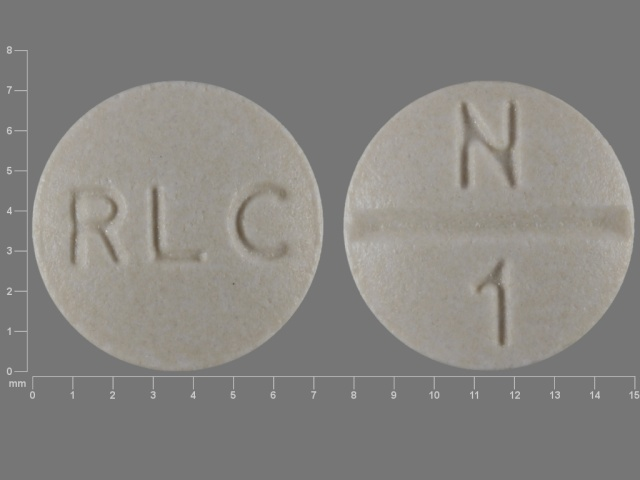1: (471, 253, 520, 349)
C: (221, 180, 300, 265)
L: (141, 181, 213, 268)
N: (451, 98, 524, 202)
R: (68, 183, 126, 271)
|: (339, 202, 635, 253)
